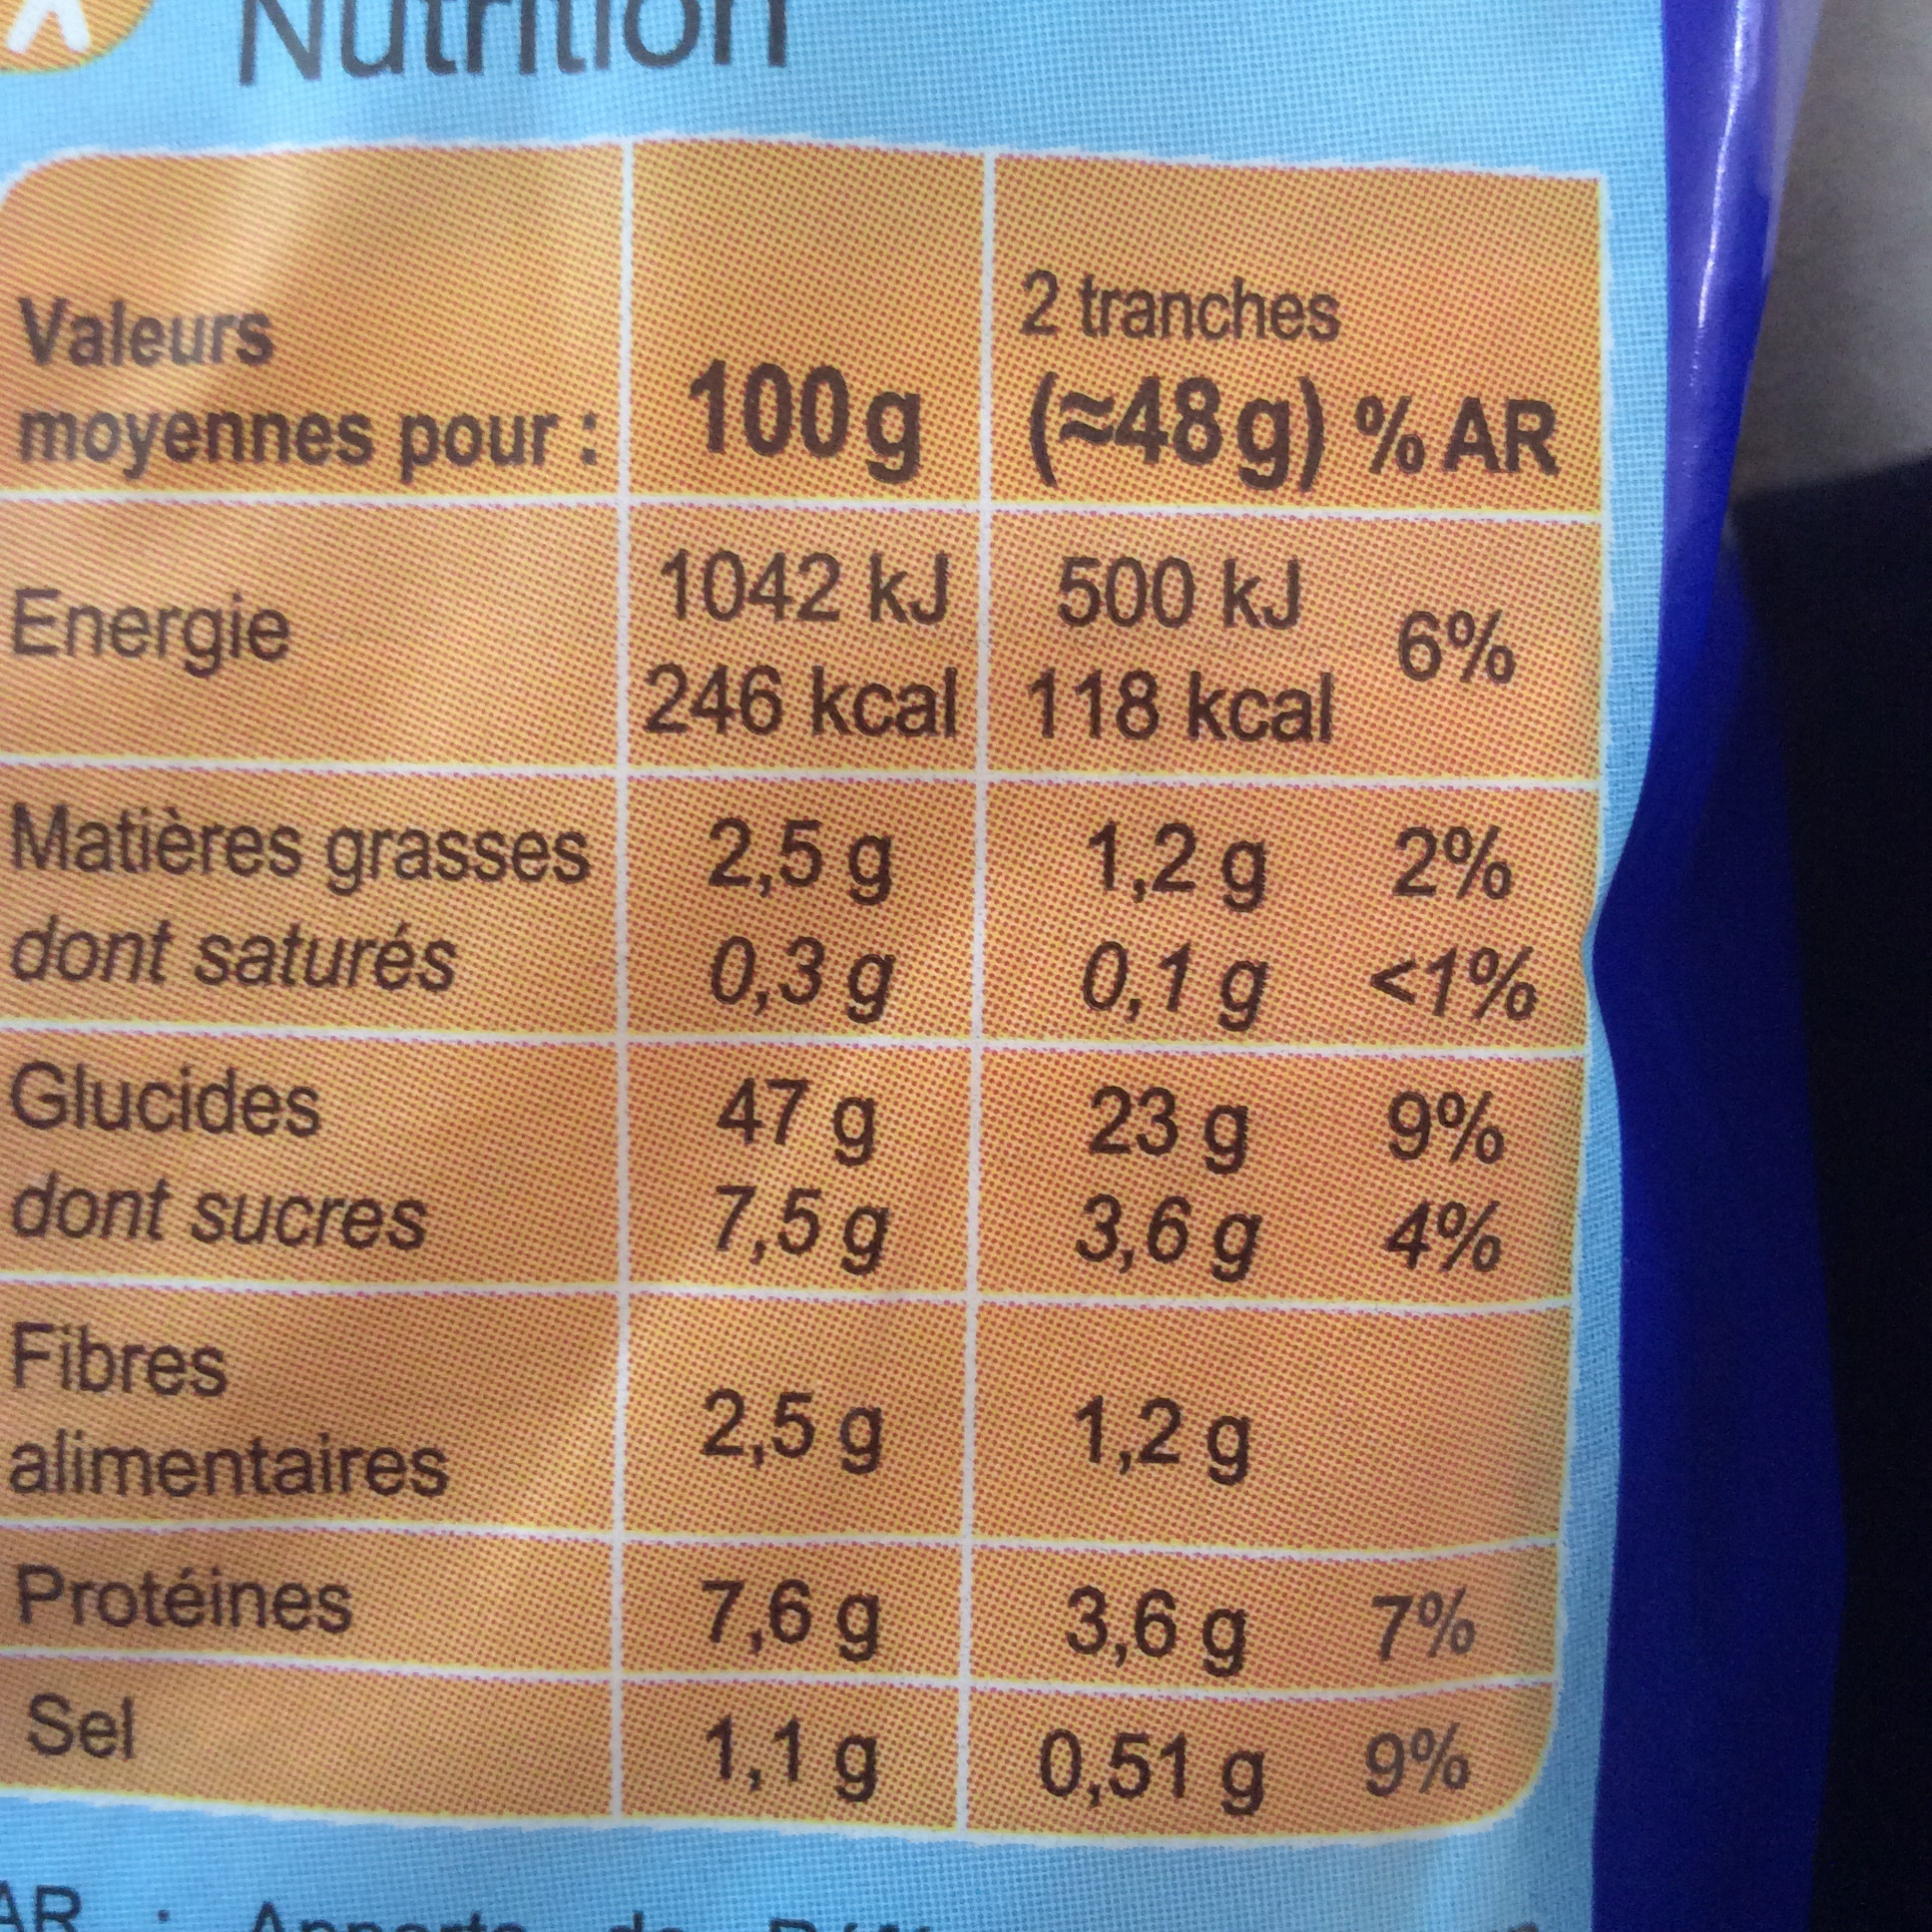column: (16, 186, 603, 1790), (1017, 186, 1562, 1817), (648, 182, 961, 1803)
table: (4, 147, 1614, 1844)
